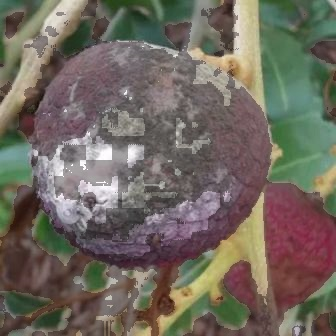Frost_Blight: (55, 51, 234, 242)
